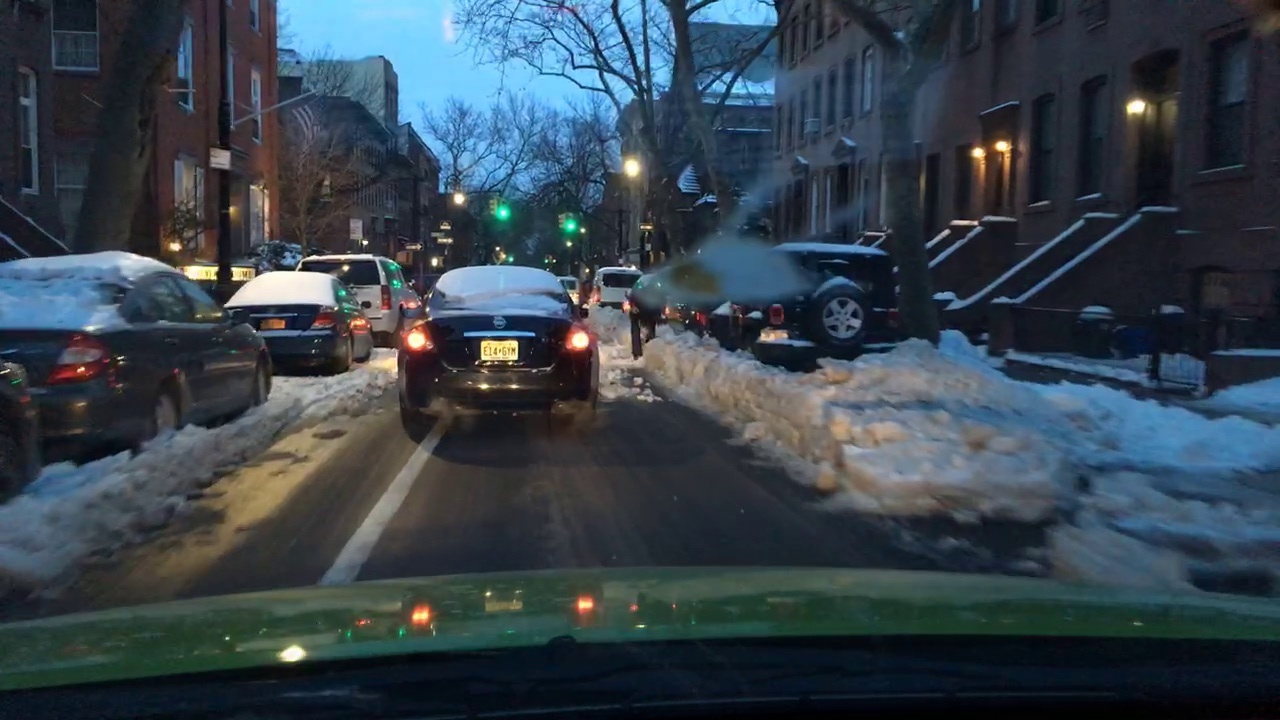car: (5, 247, 275, 441), (396, 262, 607, 437), (703, 241, 903, 368), (224, 265, 372, 373), (305, 244, 420, 341)
traffic light: (490, 191, 513, 233)
